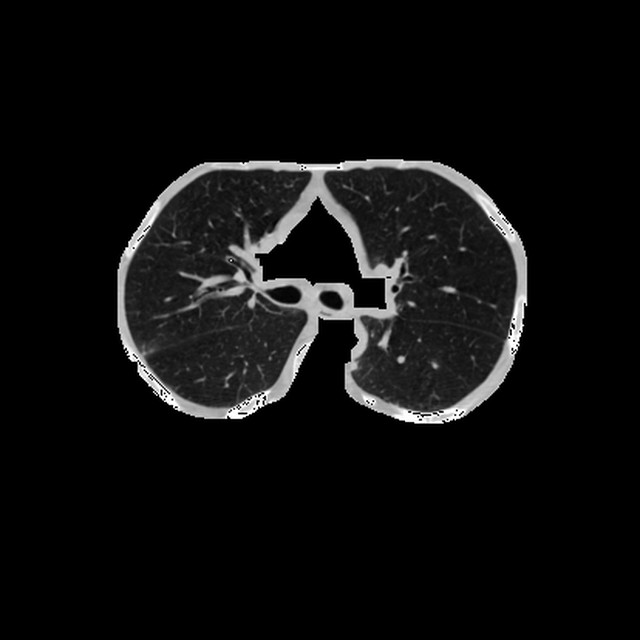PN: (349, 360, 359, 369)
